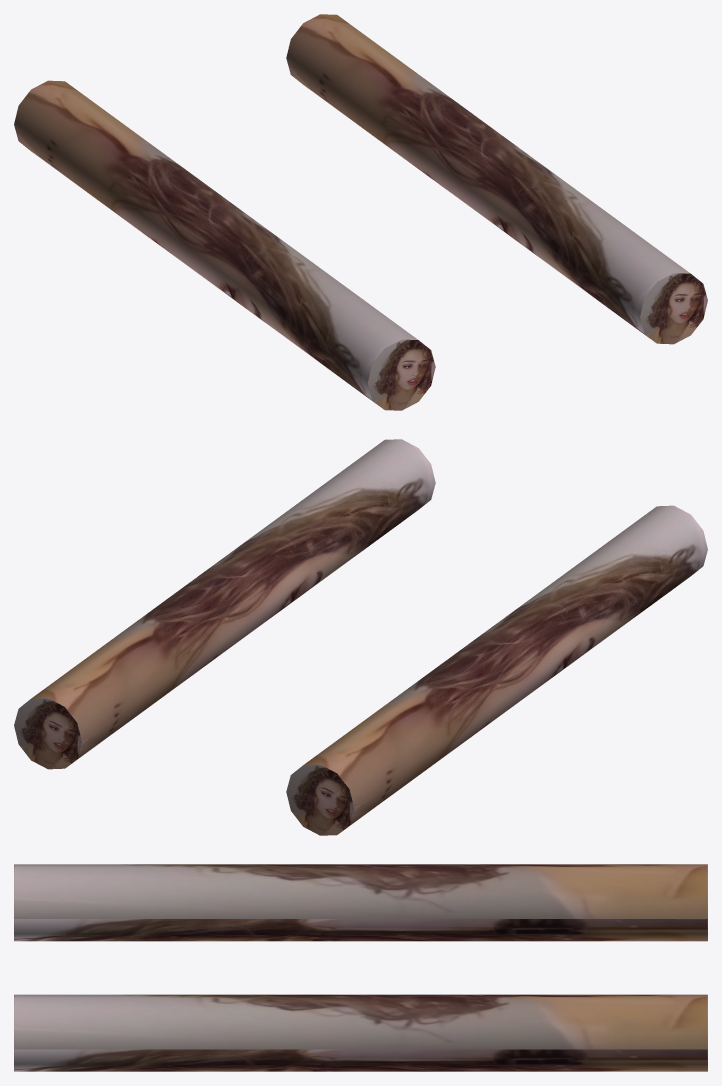
Rendered from czolg.obj.
3 views of the same model, one above another, from view 1: azimuth 30°, elevation 25°; view 2: azimuth 150°, elevation 25°; view 3: azimuth 270°, elevation 25° (orthographic).
Visible parts, largest first — view 1: kola (Copy), kola; view 2: kola (Copy), kola; view 3: kola (Copy), kola.
Boxes of the visible parts, x1,y1,x2,y2 form: kola (Copy): (286,14,707,344); kola: (14,80,435,410); kola (Copy): (14,439,435,769); kola: (286,505,707,835); kola (Copy): (14,994,707,1071); kola: (14,864,707,941).
Bounding box in the file's own units: 25 × 5 × 45.
